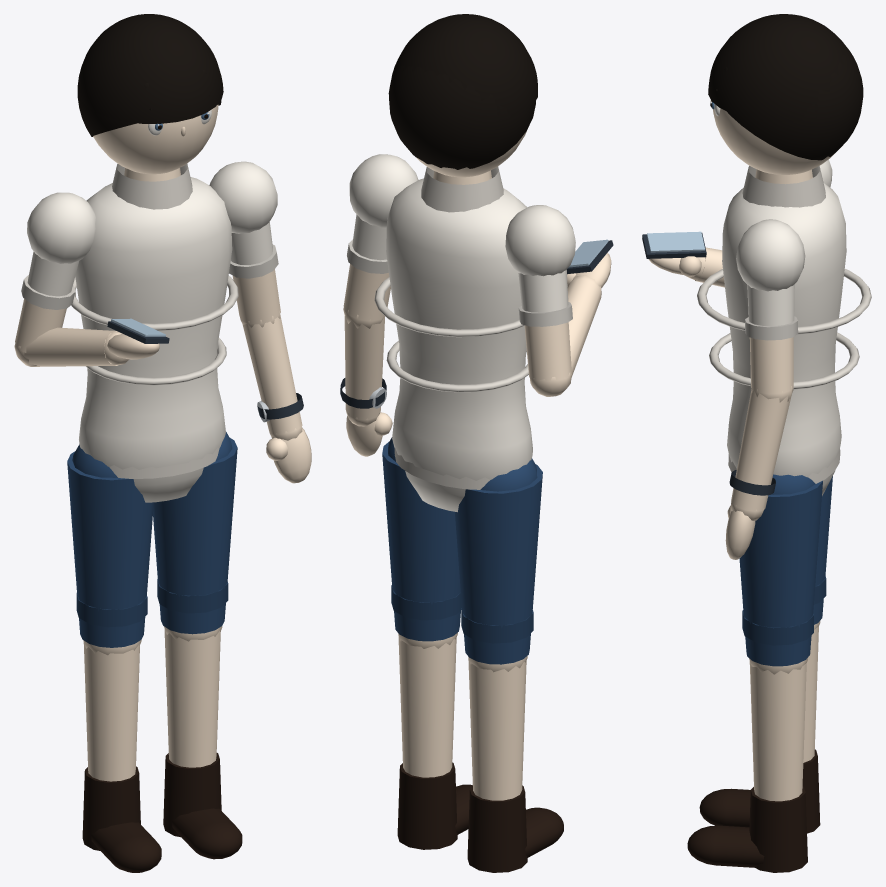
The model's file is 12-lukas.glb.
3 views of the same model, side by side, from view 1: azimuth 30°, elevation 25°; view 2: azimuth 150°, elevation 25°; view 3: azimuth 270°, elevation 25° (orthographic).
Visible parts, largest first — view 1: Lukas, skull, elbow (×2), armR, armL; view 2: Lukas, skull, elbow (×2), armR, armL; view 3: Lukas, skull, elbow (×2), armL.
Boxes of the visible parts, box(x1,y1,x2,y2) form: Lukas: box(67, 164, 242, 872); skull: box(77, 14, 223, 174); elbow (×2): box(14, 311, 311, 483); armR: box(15, 192, 95, 352); armL: box(209, 161, 280, 324); Lukas: box(374, 166, 563, 872); skull: box(388, 14, 537, 177); elbow (×2): box(340, 239, 613, 456); armR: box(505, 205, 575, 380); armL: box(343, 154, 418, 320); Lukas: box(687, 166, 871, 872); skull: box(708, 14, 863, 174); elbow (×2): box(642, 231, 793, 559); armL: box(736, 219, 805, 393).
Bounding box in the file's own units: 0.4328 × 1.33 × 0.3343.
